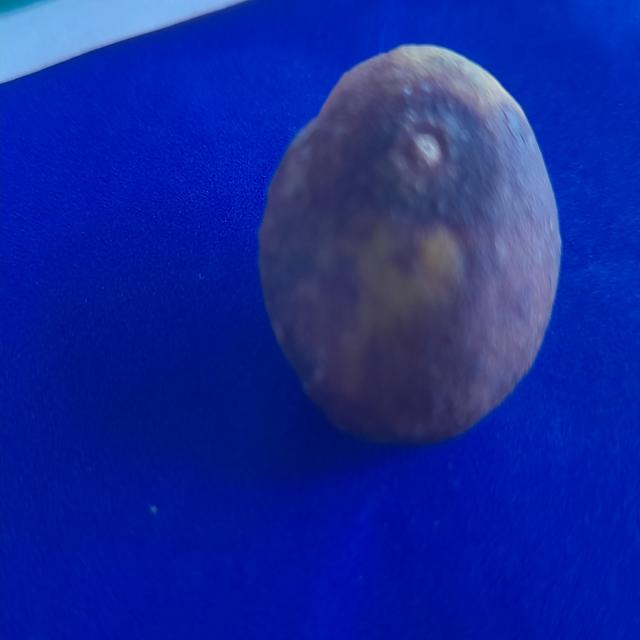black spot: (267, 39, 562, 438)
